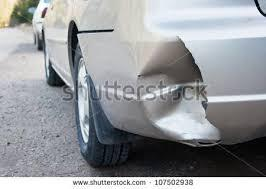rear-bumper-dent: (96, 18, 232, 144)
